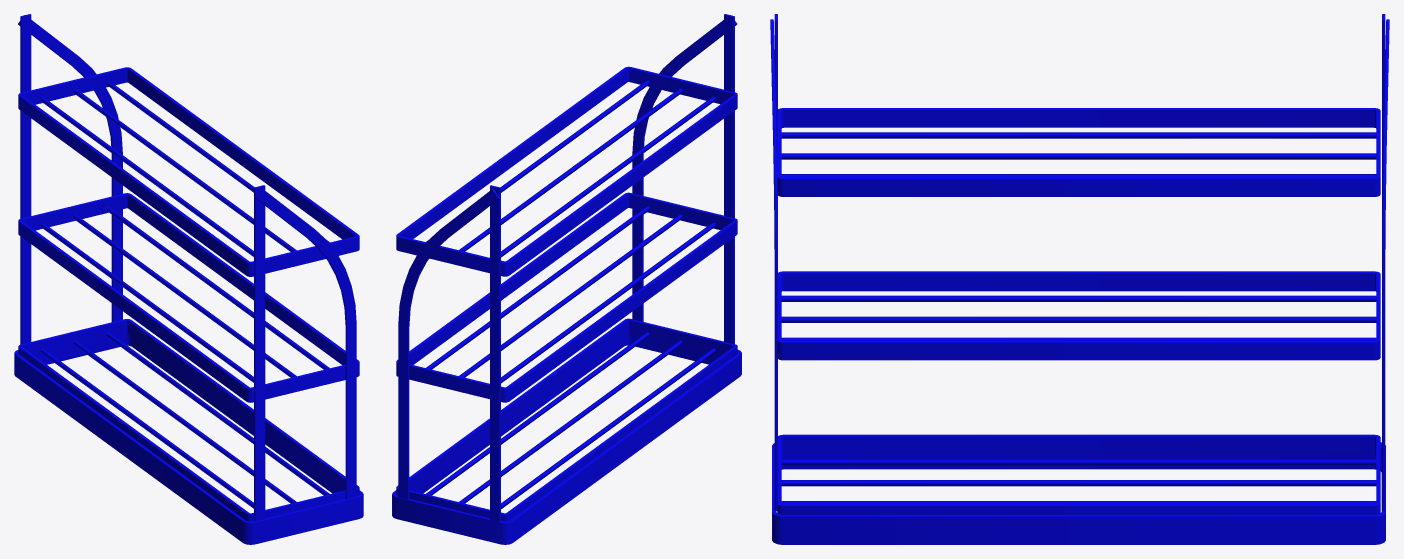
The model's file is polka.FBX.
The picture shows the model from 3 angles, left to right: view 1: azimuth 30°, elevation 25°; view 2: azimuth 150°, elevation 25°; view 3: azimuth 270°, elevation 25°; orthographic projection. The views are drawn at different scales.
Visible parts, largest first — view 1: polka; view 2: polka; view 3: polka.
Part boxes in pixels (x1,y1,x2,y2): polka: [14, 14, 363, 544]; polka: [392, 14, 741, 544]; polka: [770, 14, 1389, 544].
Bounding box in the file's own units: 8.02 × 22.78 × 27.75.
